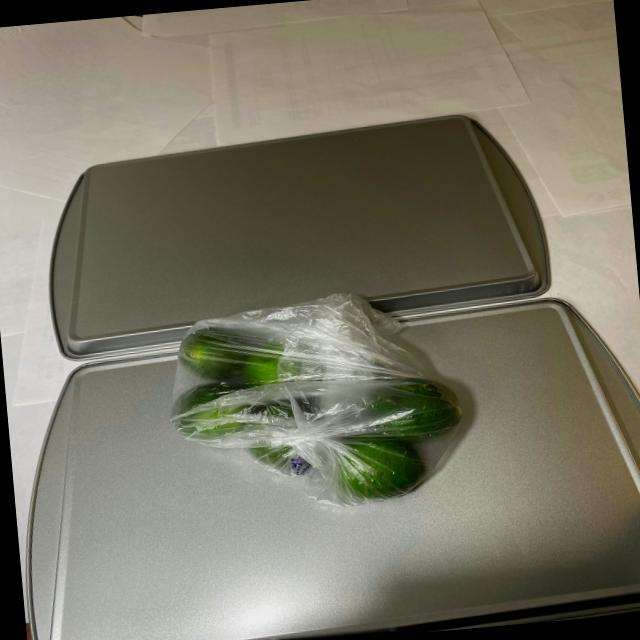lemon: (163, 294, 465, 514)
